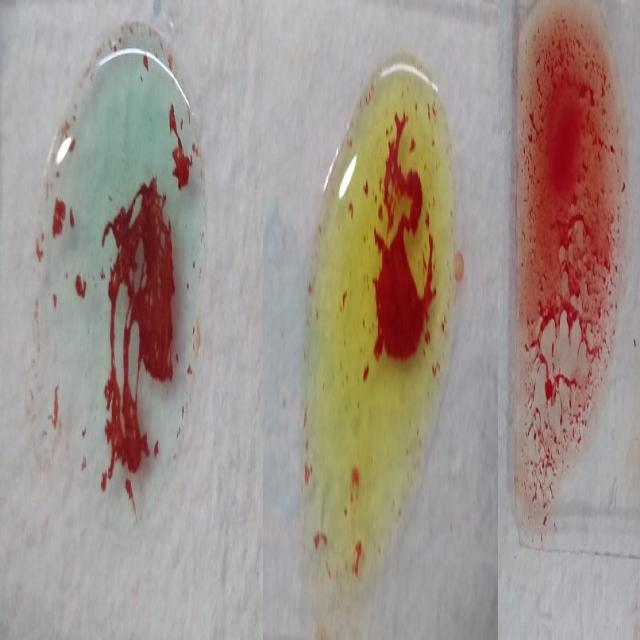A: (29, 33, 206, 543)
B: (302, 35, 454, 580)
D: (520, 2, 624, 499)
